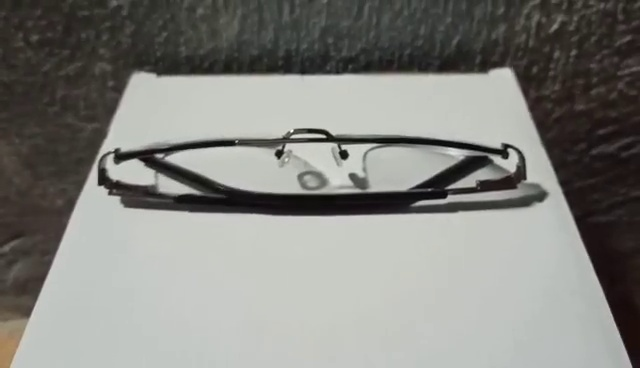glasses: (101, 128, 545, 216)
